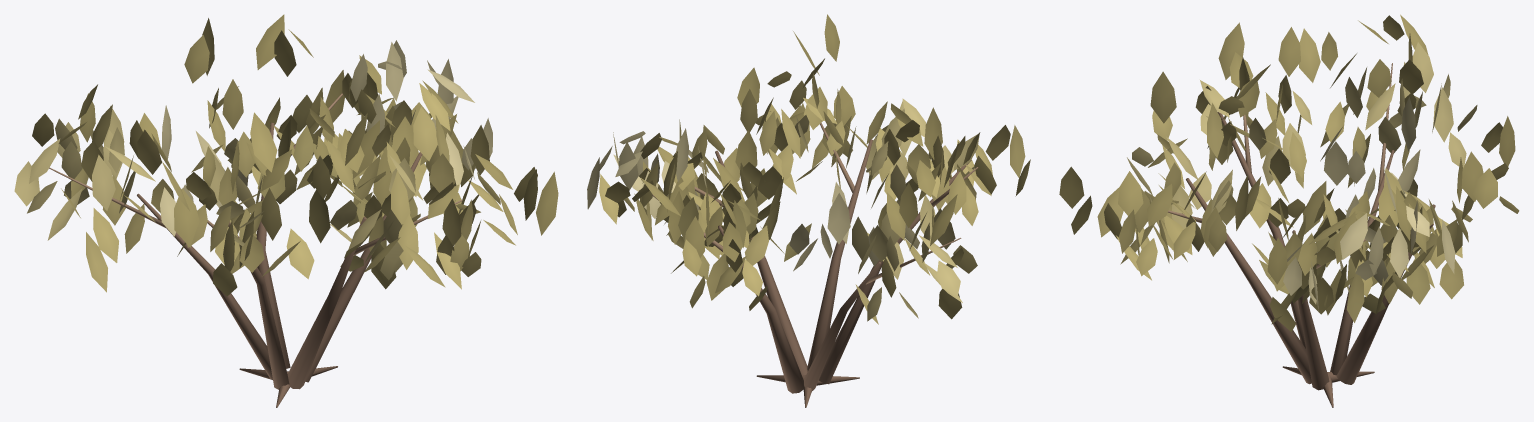
Rendered from bush_3d_01_yellow.glb.
3 views of the same model, side by side, from view 1: azimuth 30°, elevation 25°; view 2: azimuth 150°, elevation 25°; view 3: azimuth 270°, elevation 25° (orthographic). The views are drawn at different scales.
Parts seen in each view (by area): view 1: bush_3d_01_yellow_foliage, bush_3d_01_yellow_wood; view 2: bush_3d_01_yellow_foliage, bush_3d_01_yellow_wood; view 3: bush_3d_01_yellow_foliage, bush_3d_01_yellow_wood.
Part boxes in pixels (x1,y1,x2,y2): bush_3d_01_yellow_foliage: [14, 14, 558, 296]; bush_3d_01_yellow_wood: [49, 93, 462, 407]; bush_3d_01_yellow_foliage: [587, 14, 1030, 324]; bush_3d_01_yellow_wood: [652, 122, 978, 407]; bush_3d_01_yellow_foliage: [1059, 14, 1519, 331]; bush_3d_01_yellow_wood: [1168, 63, 1435, 407].
Size of the model in its own units: 1.68 by 1.22 by 1.71.
